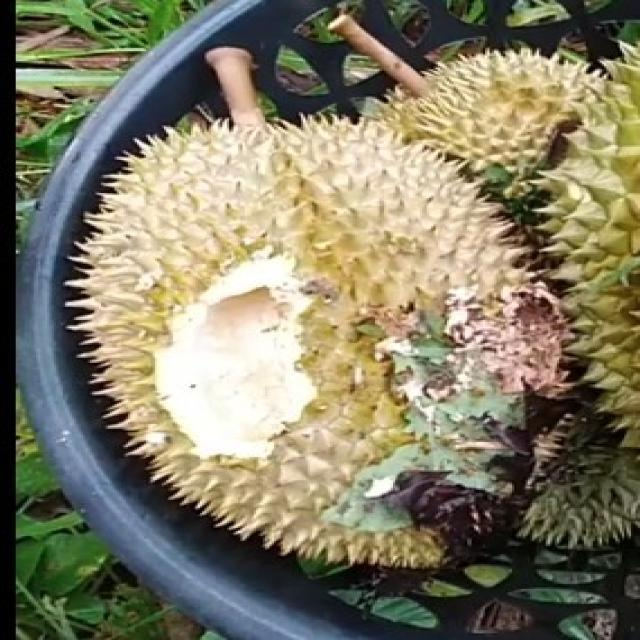defective: (58, 108, 581, 584)
